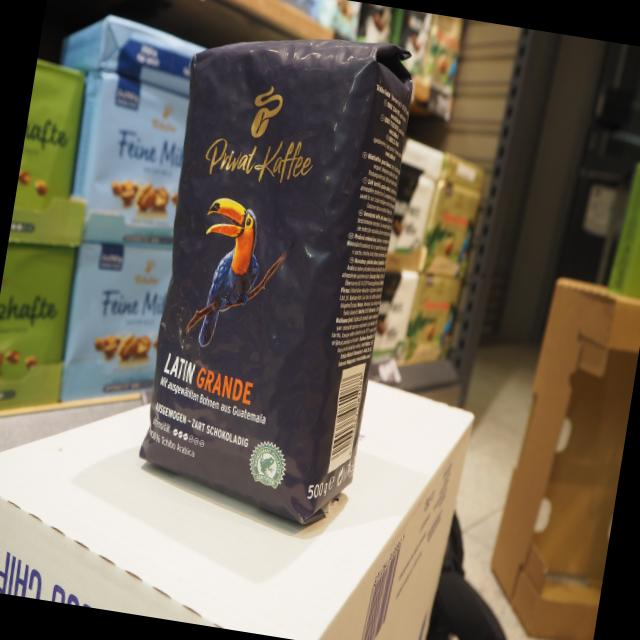LG Bohne: (127, 22, 432, 550)
